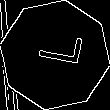L_W: (27, 35, 83, 75)
